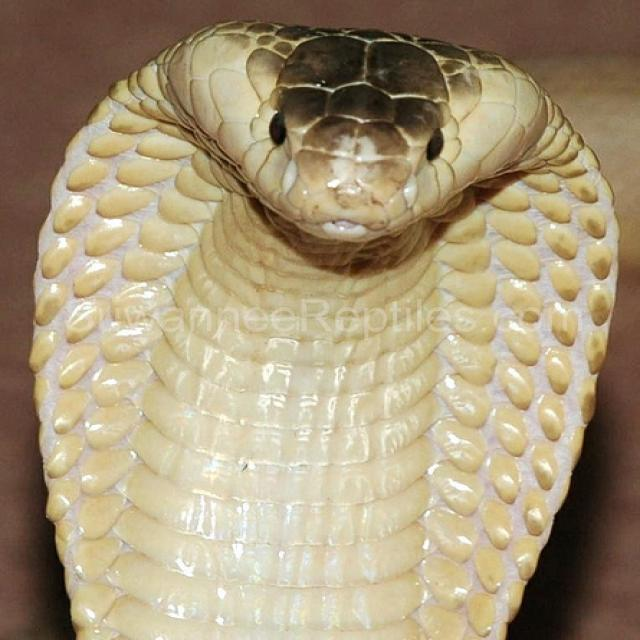Snake: (28, 16, 622, 638)
